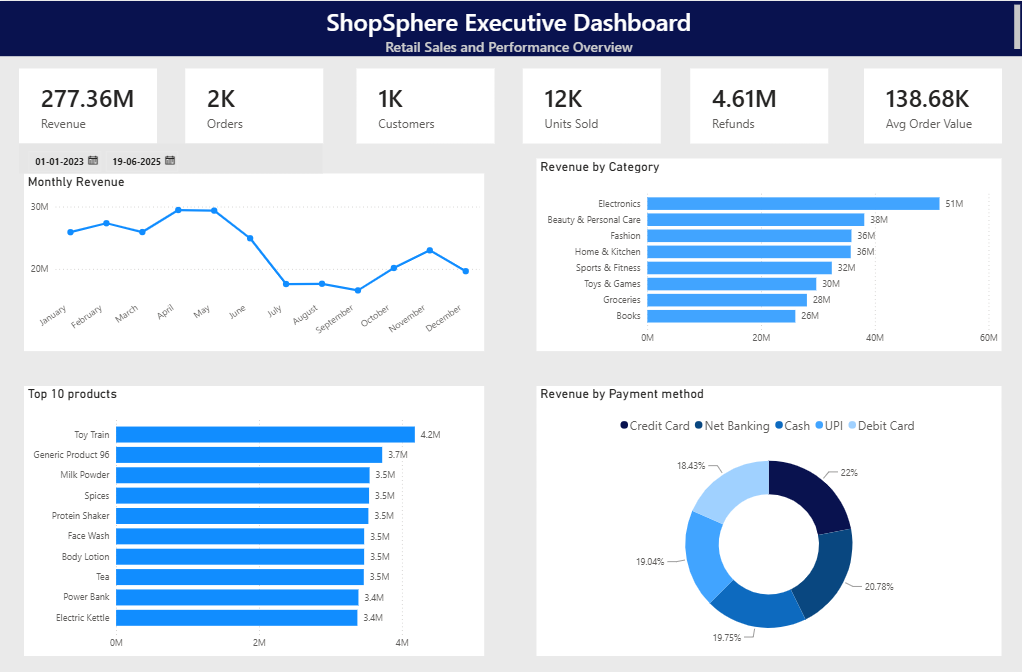

The page's visual inventory and layout, read from the dashboard file:
{"tool":"powerbi","page":{"name":"Retail Performance Overview","canvas":[1366,900],"ordinal":1},"visuals":[{"type":"cardVisual","fields":{"Data":["Order_Items.Total Revenue"]},"box":[26.7,90,184,100],"z":0},{"type":"cardVisual","fields":{"Data":["Orders.Total Orders"]},"box":[248.3,90,184,100],"z":1000},{"type":"cardVisual","fields":{"Data":["Customers.Total Customers"]},"box":[476.7,90,184,100],"z":2000},{"type":"cardVisual","fields":{"Data":["Order_Items.Products Sold"]},"box":[698.3,90,184,100],"z":3000},{"type":"cardVisual","fields":{"Data":["Returns.Total Refund Amount"]},"box":[921.7,90,184,100],"z":4000},{"type":"cardVisual","fields":{"Data":["Order_Items.Average Order Value"]},"box":[1153.3,90,184,100],"z":5000},{"type":"textbox","box":[0,0,1366.7,73.3],"z":6000},{"type":"barChart","title":"Revenue by Category","fields":{"Category":["Categories.category_name"],"Y":["Order_Items.Total Revenue"]},"box":[716.7,210,620,256.7],"z":7000},{"type":"barChart","title":"Top 10 products","fields":{"Category":["Products.product_name"],"Y":["Order_Items.Total Revenue"]},"box":[33.3,513.3,613.3,360],"z":8000},{"type":"lineChart","title":"Monthly Revenue","fields":{"Y":["Order_Items.Total Revenue"],"Category":["Orders.order_date.Variation.Date Hierarchy.Month"]},"box":[33.3,230,613.3,236.7],"z":9000},{"type":"donutChart","title":"Revenue by Payment method","fields":{"Category":["Payments.payment_method"],"Y":["Order_Items.Total Revenue"]},"box":[716.7,513.3,620,360],"z":10000},{"type":"slicer","fields":{"Values":["Orders.order_date"]},"box":[26.7,190,405,40],"z":11000}]}

Visuals, with their boxes in screenshot pixels (x1, y1, x2, y2), scaled from the page's 1366x900 canvas onto the 1022x672 screenshot:
cardVisual - Order_Items.Total Revenue: box(20, 67, 158, 142)
cardVisual - Orders.Total Orders: box(186, 67, 323, 142)
cardVisual - Customers.Total Customers: box(357, 67, 494, 142)
cardVisual - Order_Items.Products Sold: box(522, 67, 660, 142)
cardVisual - Returns.Total Refund Amount: box(690, 67, 827, 142)
cardVisual - Order_Items.Average Order Value: box(863, 67, 1001, 142)
textbox: box(0, 0, 1021, 55)
"Revenue by Category" barChart: box(536, 157, 1000, 348)
"Top 10 products" barChart: box(25, 383, 484, 652)
"Monthly Revenue" lineChart: box(25, 172, 484, 348)
"Revenue by Payment method" donutChart: box(536, 383, 1000, 652)
slicer - Orders.order_date: box(20, 142, 323, 172)
